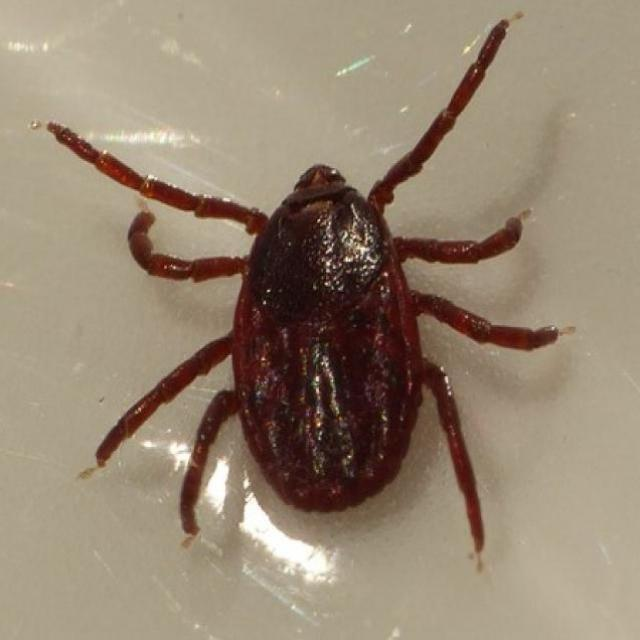Rhipicephalus Sanguineus-F: (35, 20, 561, 556)
